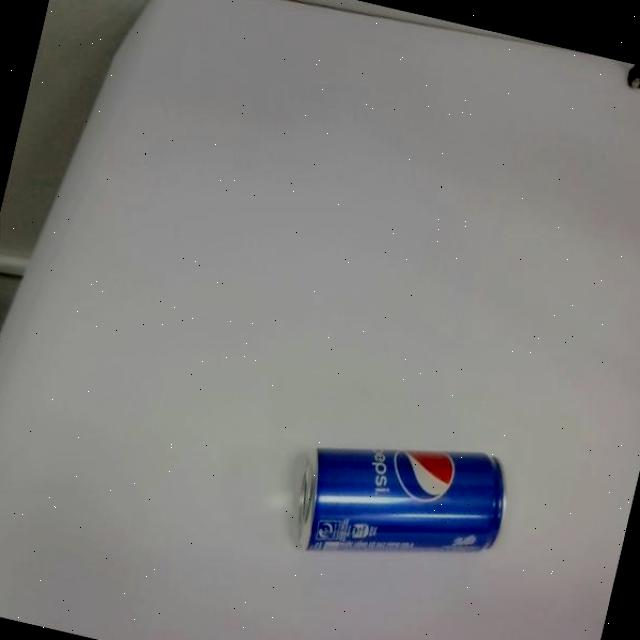debris: (284, 411, 516, 592)
